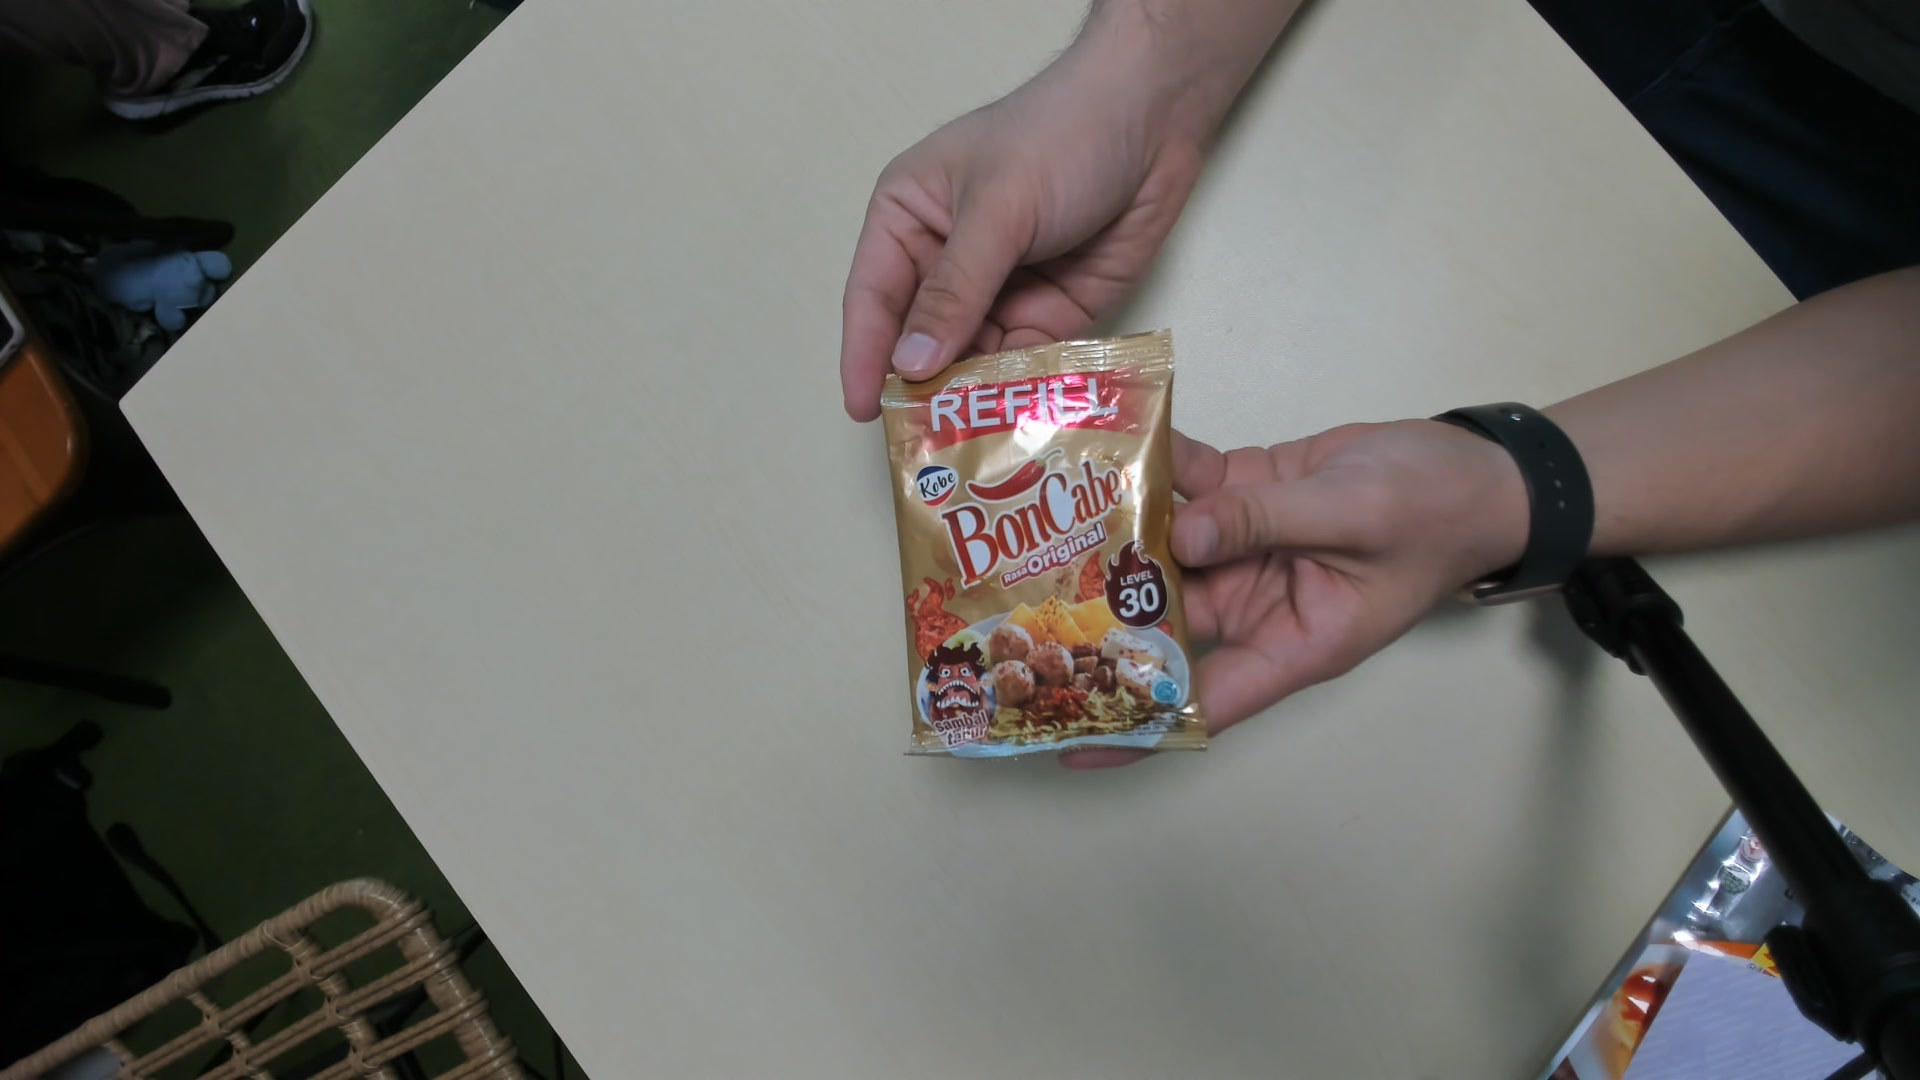CurryPastePowderSauce_0-99g_Halal_NonHealthy: (884, 338, 1207, 774)
